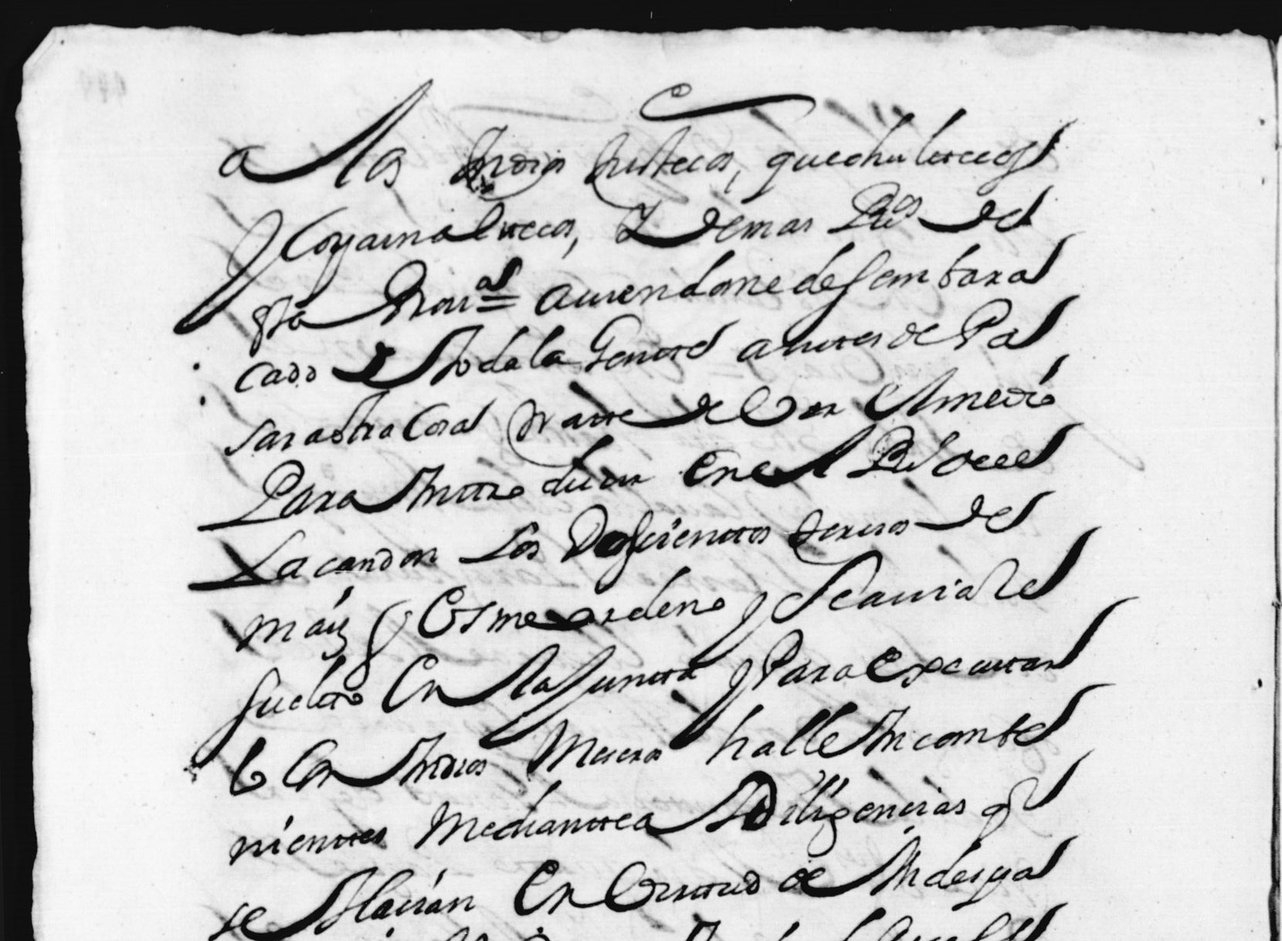lacandon: (188, 530, 437, 591)
